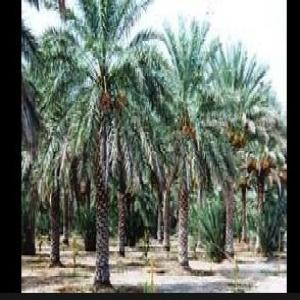palm tree: (47, 0, 168, 288)
